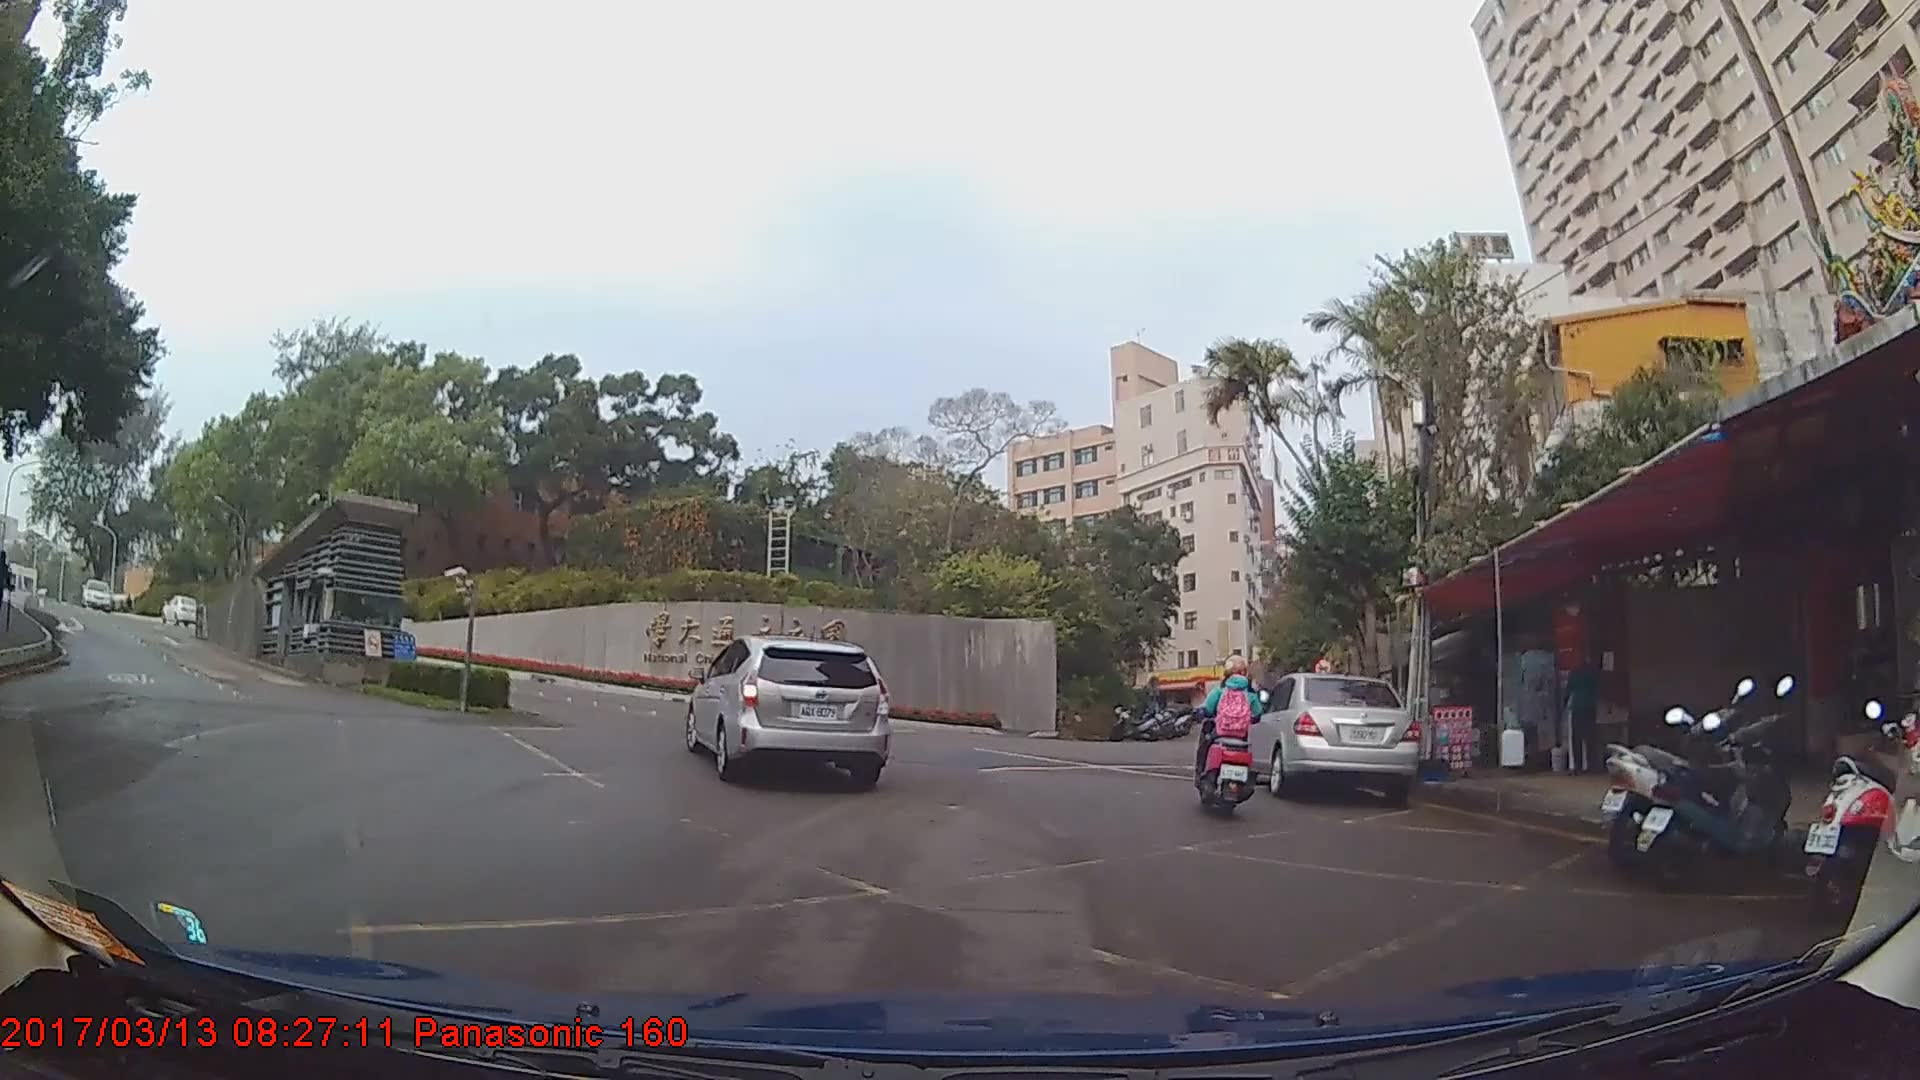pedestrian: (1555, 639, 1610, 773), (1, 544, 21, 645)
rider: (1190, 659, 1266, 827)
vehicle: (683, 632, 891, 784), (1239, 671, 1421, 796), (77, 576, 115, 610), (159, 592, 202, 623)
